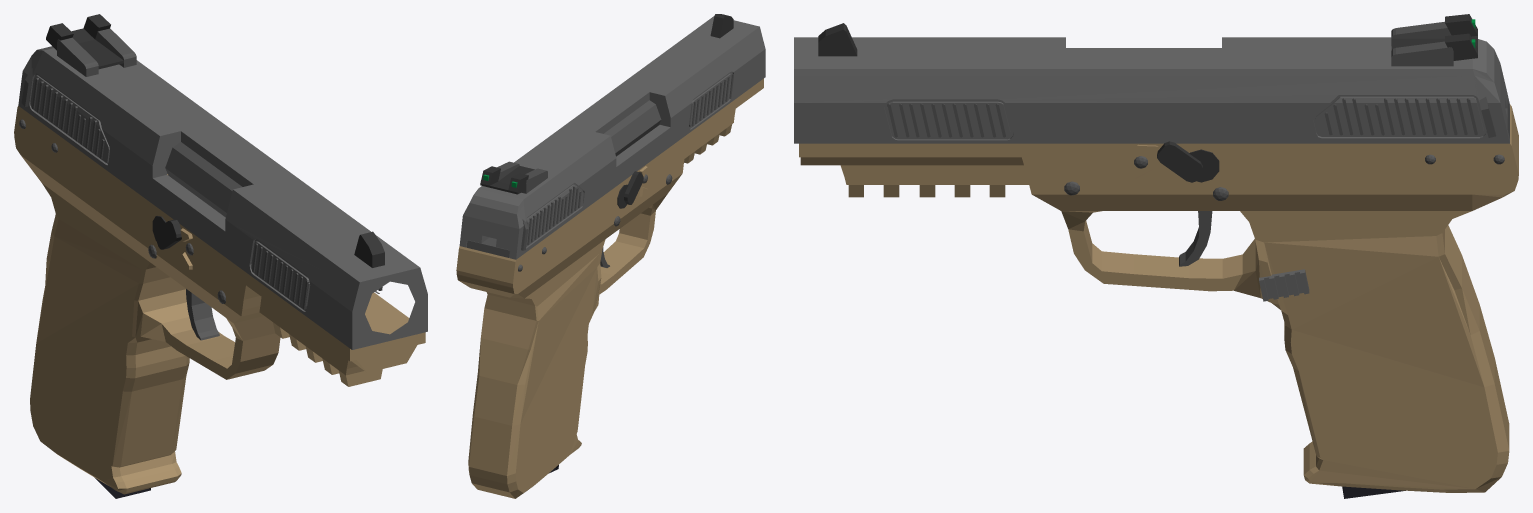
File: fiveseven.glb
3 views of the same model, side by side, from view 1: azimuth 30°, elevation 25°; view 2: azimuth 150°, elevation 25°; view 3: azimuth 270°, elevation 25° (orthographic). The views are drawn at different scales.
Parts seen in each view (by area): view 1: body_4, slide_0, slide_1, slide_3, trigger_8, body_5; view 2: body_4, slide_0, slide_1, slide_3, body_5; view 3: body_4, slide_0, slide_1, slide_3, body_5, magrelease_6, trigger_8.
Part boxes in pixels (x1=…): body_4: x1=14, y1=106, x2=425, y2=494; slide_0: x1=18, y1=46, x2=427, y2=349; slide_1: x1=21, y1=28, x2=382, y2=309; slide_3: x1=46, y1=14, x2=384, y2=267; trigger_8: x1=186, y1=289, x2=219, y2=340; body_5: x1=152, y1=215, x2=181, y2=249; body_4: x1=456, y1=78, x2=763, y2=498; slide_0: x1=459, y1=16, x2=765, y2=259; slide_1: x1=466, y1=73, x2=733, y2=257; slide_3: x1=480, y1=14, x2=733, y2=194; body_5: x1=617, y1=171, x2=643, y2=208; body_4: x1=799, y1=104, x2=1518, y2=492; slide_0: x1=794, y1=37, x2=1509, y2=143; slide_1: x1=887, y1=21, x2=1509, y2=138; slide_3: x1=818, y1=14, x2=1477, y2=60; body_5: x1=1157, y1=141, x2=1219, y2=182; magrelease_6: x1=1259, y1=269, x2=1309, y2=301; trigger_8: x1=1179, y1=211, x2=1212, y2=266.
Size of the model in its own units: 3.13 by 14.68 by 20.8.
